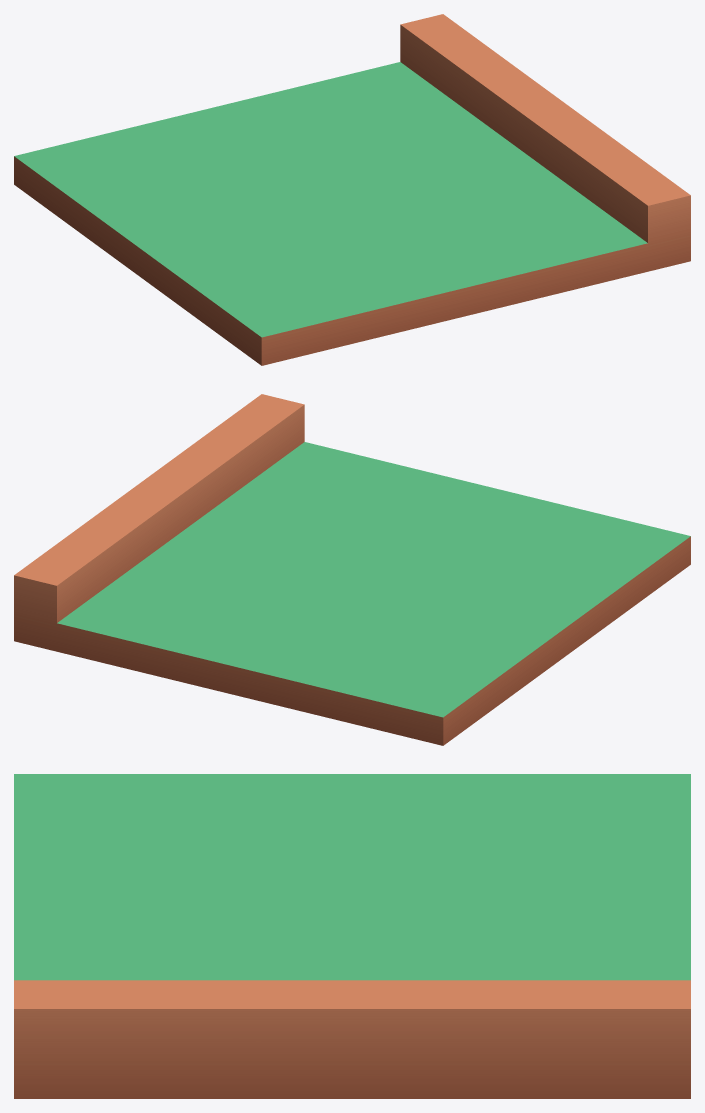
File: side.glb
The picture shows the model from 3 angles, top to bottom: view 1: azimuth 30°, elevation 25°; view 2: azimuth 150°, elevation 25°; view 3: azimuth 270°, elevation 25°; orthographic projection. The views are drawn at different scales.
Parts seen in each view (by area): view 1: side; view 2: side; view 3: side.
Boxes of the visible parts, x1,y1,x2,y2 form: side: (14,14,690,365); side: (14,394,690,745); side: (14,774,690,1098).
Size of the model in its own units: 0.9999 by 0.1467 by 0.9999.
1 material, 1 textured.
